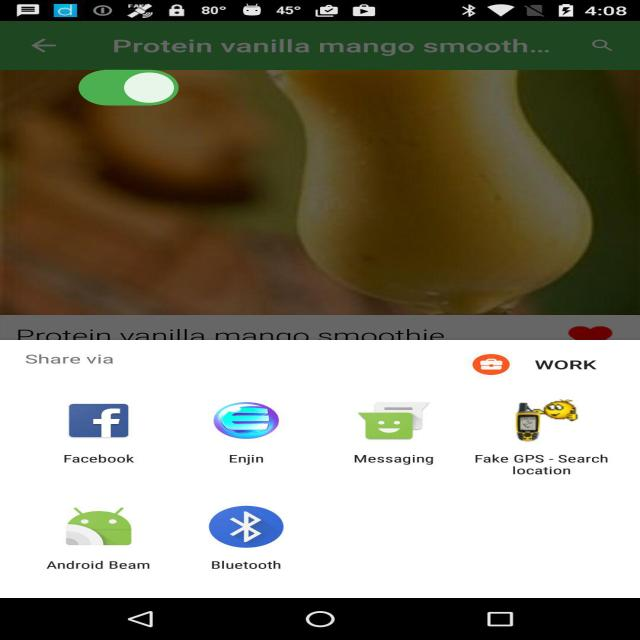social proof: (74, 56, 183, 122)
